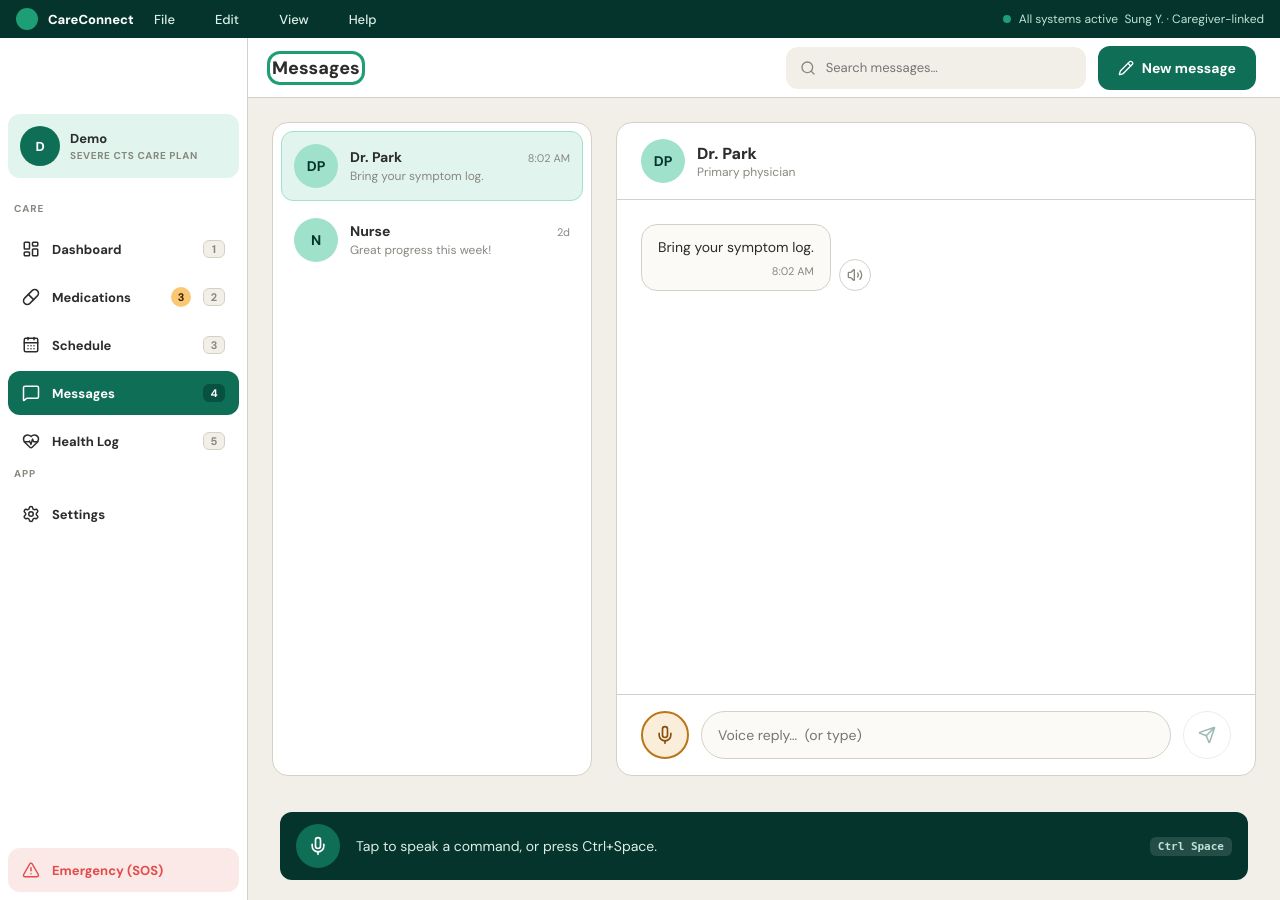
Scenario: voice commands › still navigates to other screens when "open" names no contact
Expected: the heading "Messages" is shown, [272,56,360,80]
What coordinates should you click on to do the following:
click the button named "Start voice command"
I would click on:
 (318, 846)
Its box is [296,824,340,868].
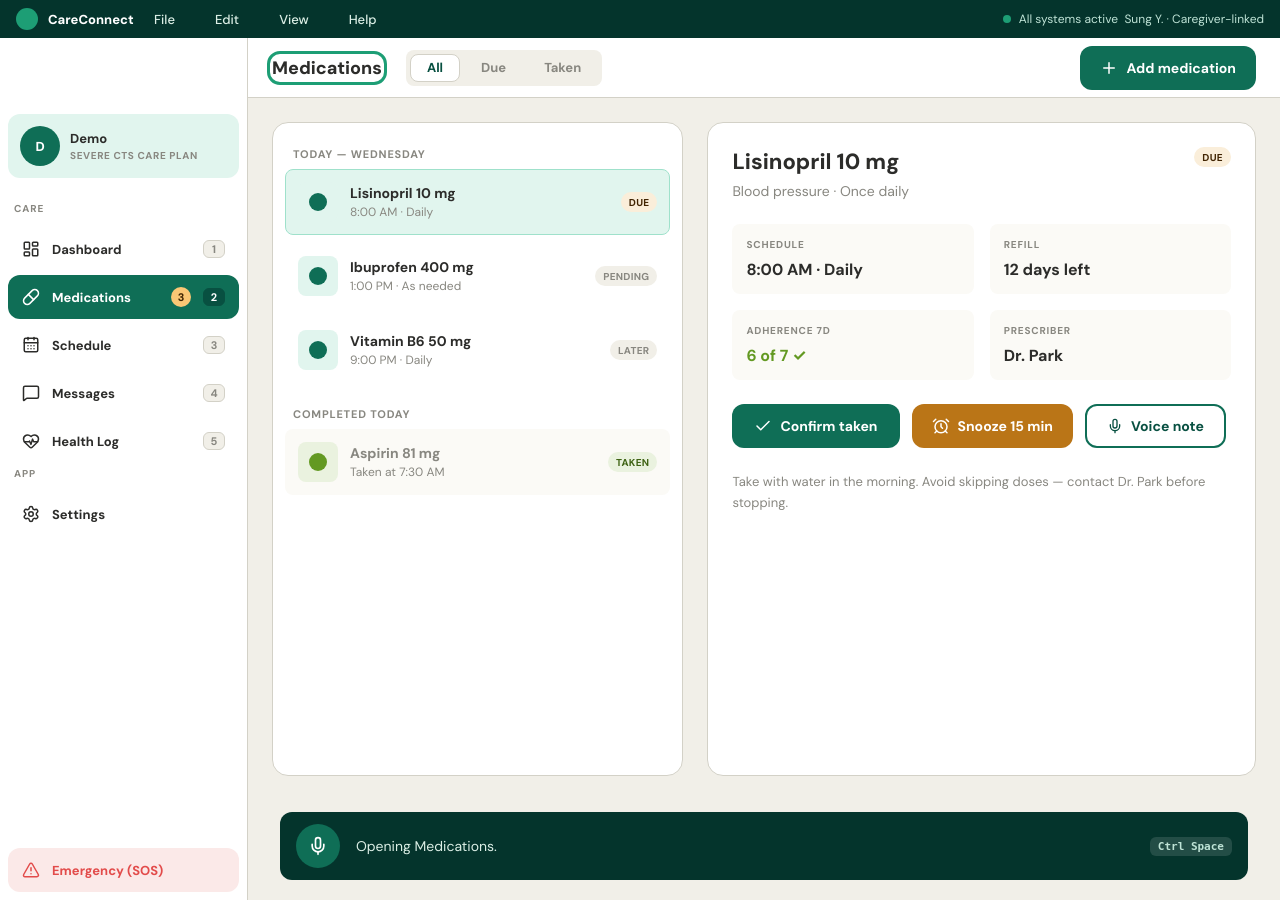
Expected: the heading "Medications" is shown, [272,56,382,80]
